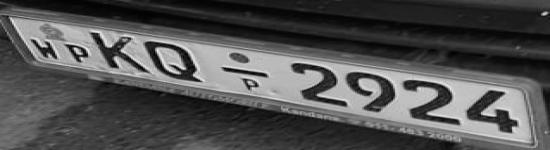-: (218, 61, 276, 82)
2: (281, 58, 356, 113), (404, 75, 465, 128)
4: (463, 83, 523, 140)
9: (343, 66, 402, 121)
I: (27, 36, 66, 63)
K: (87, 28, 160, 80)
P: (60, 39, 96, 65)
Q: (141, 37, 217, 89)
